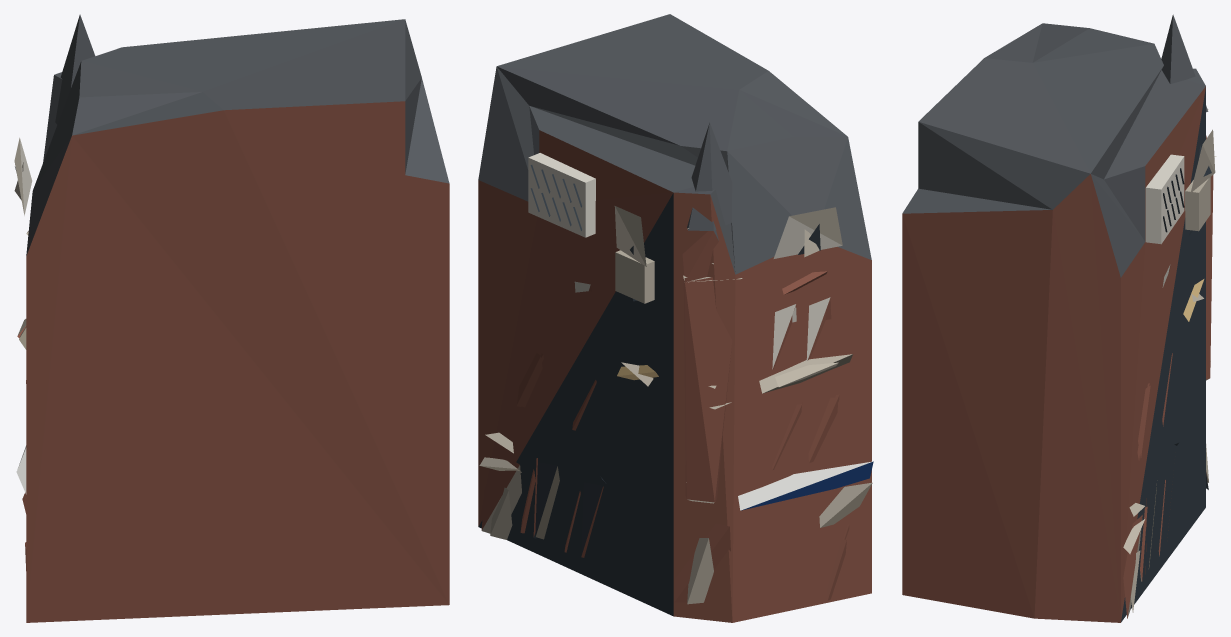
Rendered from muntplein-1.lod2.glb.
3 views of the same model, side by side, from view 1: azimuth 30°, elevation 25°; view 2: azimuth 150°, elevation 25°; view 3: azimuth 270°, elevation 25° (orthographic). The views are drawn at different scales.
Parts seen in each view (by area): view 1: lod2; view 2: lod2; view 3: lod2.
Part boxes in pixels (box(x1,y1,x2,y2)): lod2: box(14, 14, 449, 622); lod2: box(478, 14, 873, 622); lod2: box(902, 14, 1216, 622).
Size of the model in its own units: 14.02 by 17.7 by 10.43.
